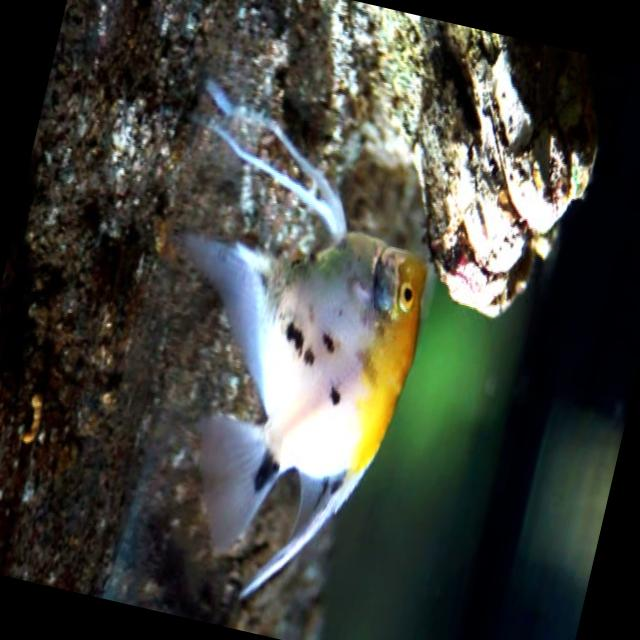AngelFish: (94, 83, 459, 628)
